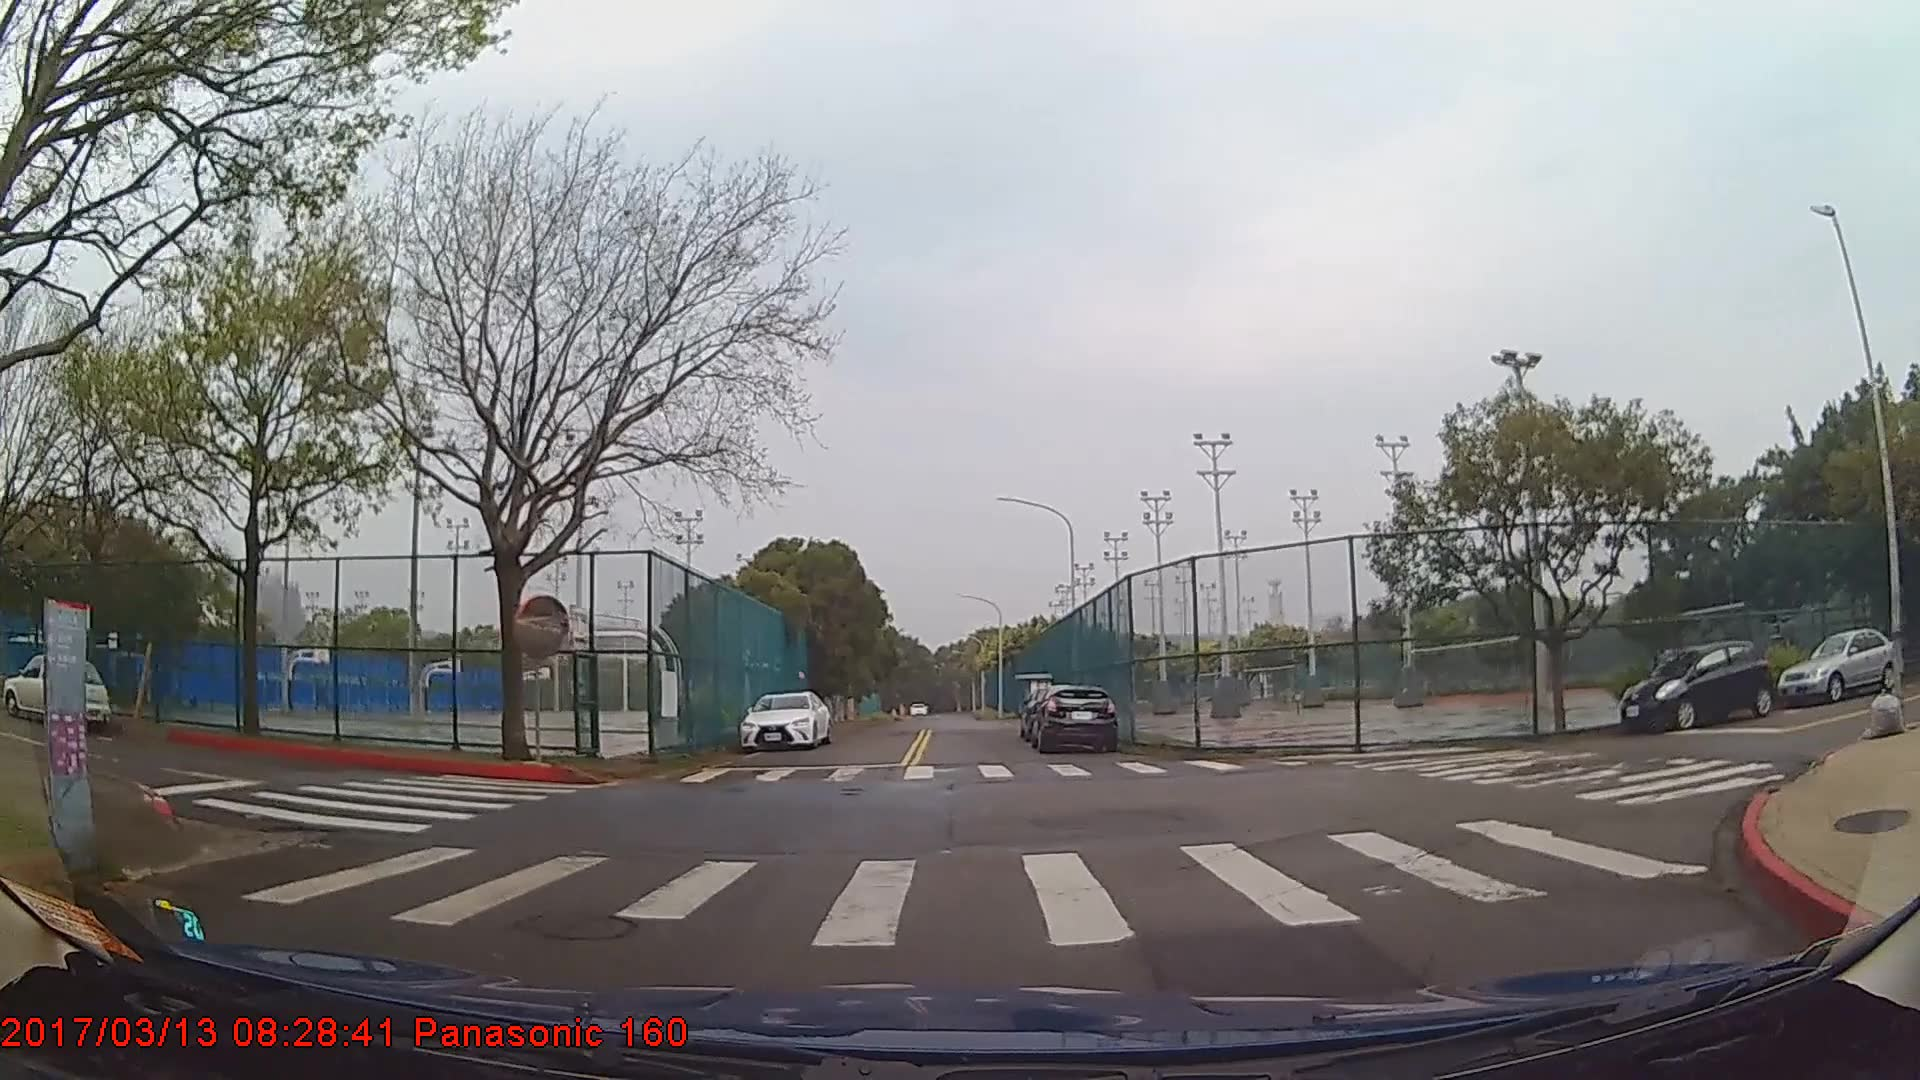vehicle: (1617, 640, 1774, 731), (1778, 622, 1904, 707), (8, 650, 105, 725), (1031, 683, 1117, 753), (740, 688, 829, 750)
